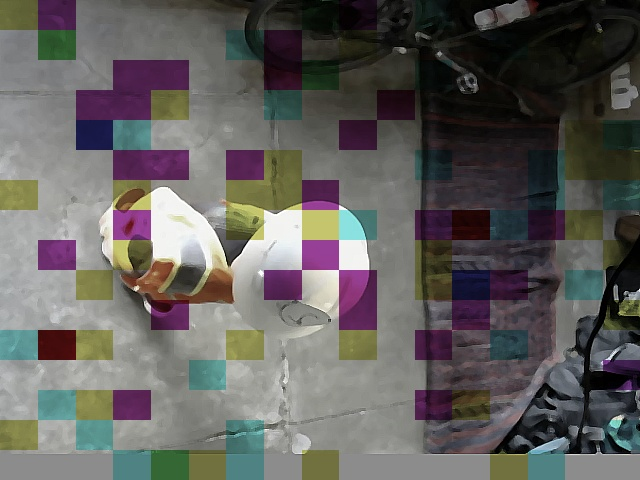two: (278, 302, 332, 327)
